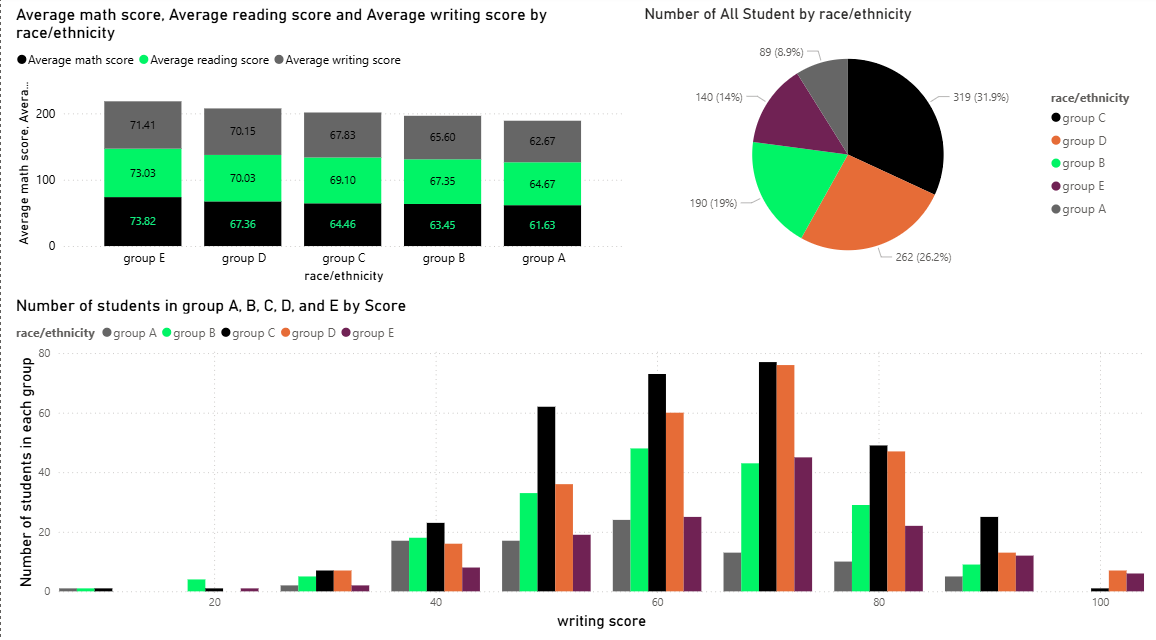

Layout of this report page (visuals, bound fields, positions):
{"tool":"powerbi","page":{"name":"Performance by Race/Ethnicity","canvas":[1280,720],"ordinal":2},"visuals":[{"type":"columnChart","fields":{"Category":["DimDemographic.race/ethnicity"],"Y":["_Measures.Average math score","_Measures.Average reading score","_Measures.Average writing score"]},"box":[11.6,11.6,680.8,311.4],"z":0},{"type":"clusteredColumnChart","title":"Number of students in group A, B, C, D, and E by Score","fields":{"Category":["FactStudentsScores.math score (bins)","FactStudentsScores.reading score (bins)","FactStudentsScores.writing score (bins)"],"Y":["_Measures.Number of All Student"],"Series":["DimDemographic.race/ethnicity"]},"box":[11.6,333,1255.6,372.7],"z":1000},{"type":"pieChart","fields":{"Category":["DimDemographic.race/ethnicity"],"Y":["_Measures.Number of All Student"]},"box":[705.7,11.6,561.5,311.4],"z":2000}]}

Visuals, with their boxes in screenshot pixels (x1, y1, x2, y2), scaled from the page's 1280x720 canvas onto the 1156x640 screenshot:
columnChart - DimDemographic.race/ethnicity x _Measures.Average math score: select_region(10, 10, 625, 287)
"Number of students in group A, B, C, D, and E by Score" clusteredColumnChart: select_region(10, 296, 1144, 627)
pieChart - DimDemographic.race/ethnicity x _Measures.Number of All Student: select_region(637, 10, 1144, 287)
